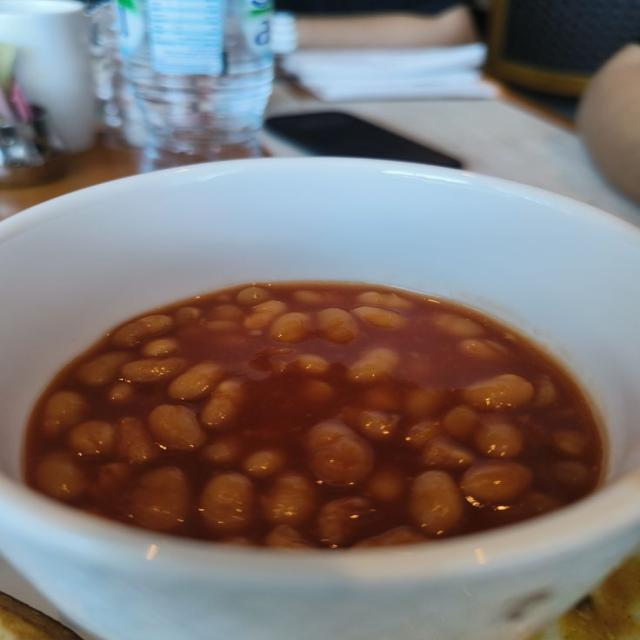beans: (27, 284, 600, 548), (307, 421, 374, 486), (127, 466, 190, 531), (410, 471, 464, 535), (200, 472, 254, 534), (461, 461, 532, 502), (318, 497, 373, 547), (263, 473, 315, 525), (148, 405, 205, 450), (461, 374, 534, 409), (35, 453, 87, 500), (168, 363, 223, 401), (200, 380, 244, 427), (112, 315, 173, 348), (474, 417, 523, 458), (43, 391, 88, 435), (117, 417, 159, 463), (77, 352, 132, 386), (347, 347, 399, 382), (421, 437, 475, 469), (68, 421, 115, 456), (121, 357, 186, 382), (354, 526, 425, 547), (92, 462, 132, 499), (317, 308, 359, 343), (354, 410, 399, 441), (432, 312, 485, 338), (307, 421, 355, 448), (367, 469, 406, 502), (442, 406, 479, 440), (243, 449, 286, 478), (352, 306, 406, 329), (270, 312, 310, 343), (244, 301, 286, 330), (404, 388, 444, 418), (551, 460, 591, 490), (201, 436, 241, 465), (266, 524, 312, 549), (360, 384, 401, 411), (459, 338, 507, 360), (405, 421, 442, 449), (356, 291, 413, 309), (553, 429, 588, 457), (520, 492, 560, 514), (301, 380, 334, 404), (534, 376, 558, 407), (294, 354, 329, 375), (141, 338, 179, 356), (293, 290, 335, 306), (236, 286, 270, 305), (107, 382, 135, 404), (208, 305, 244, 320), (174, 307, 202, 326), (202, 320, 239, 332)
